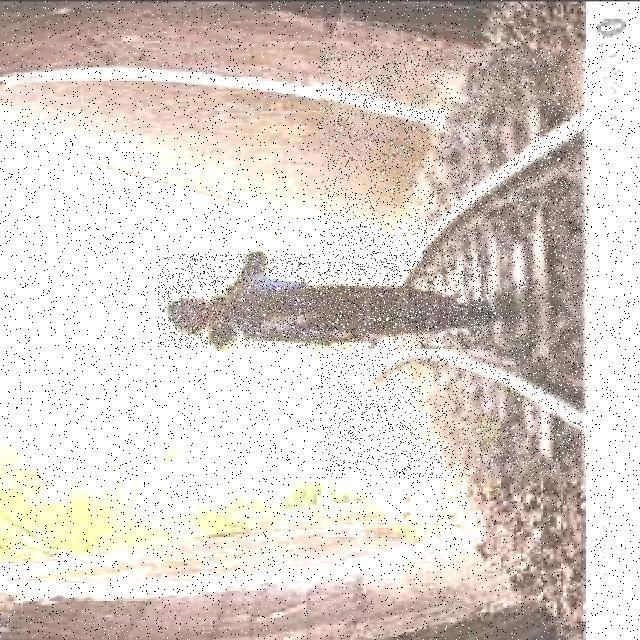danger: (158, 254, 494, 348)
rail: (320, 49, 588, 478)
